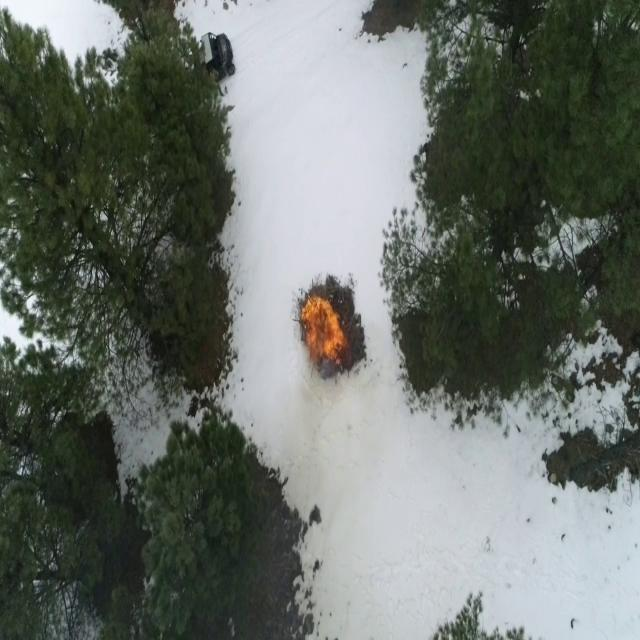fire: (301, 297, 344, 363)
